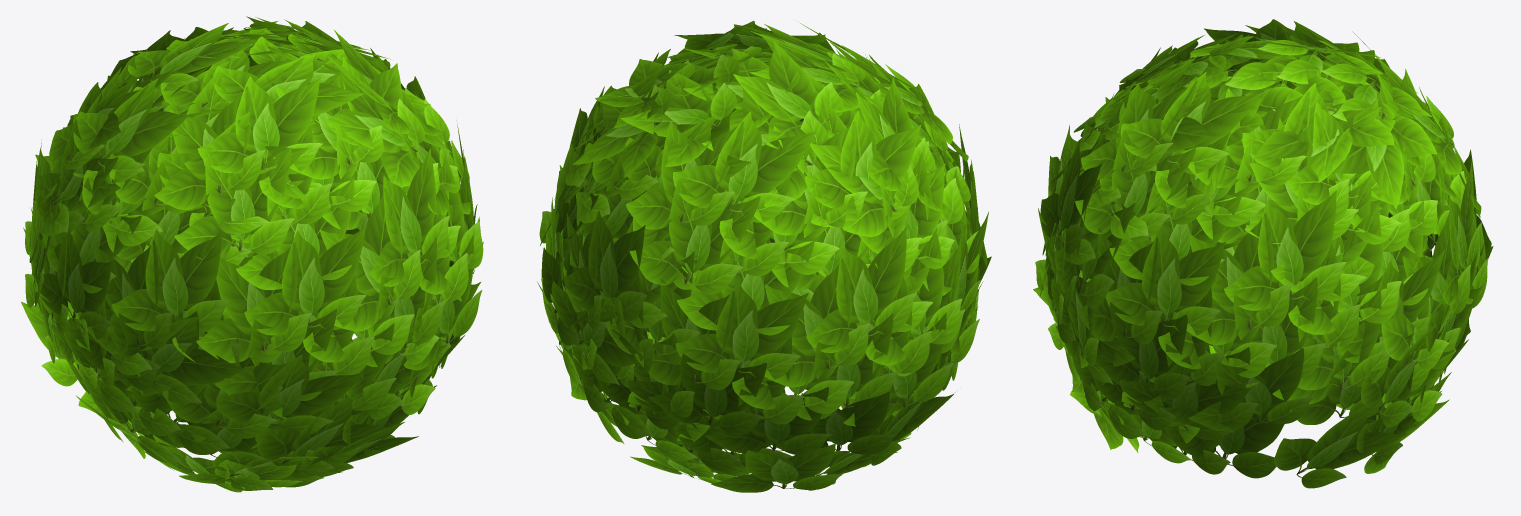
The model's file is bush 01.fbx.
3 views of the same model, side by side, from view 1: azimuth 30°, elevation 25°; view 2: azimuth 150°, elevation 25°; view 3: azimuth 270°, elevation 25° (orthographic).
Parts seen in each view (by area): view 1: polySurface119; view 2: polySurface119; view 3: polySurface119.
Part boxes in pixels (<box>): polySurface119: <box>21,16,483,492</box>; polySurface119: <box>537,20,991,492</box>; polySurface119: <box>1033,19,1493,488</box>.
Size of the model in its own units: 5.48 by 5.32 by 5.46.
